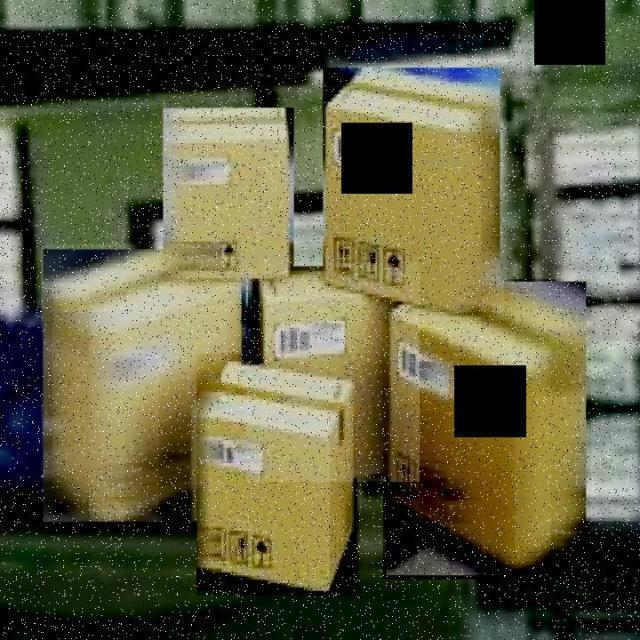box: (383, 280, 591, 580), (41, 244, 250, 528), (321, 64, 504, 321), (196, 354, 360, 596), (246, 264, 419, 482), (162, 106, 297, 280)
